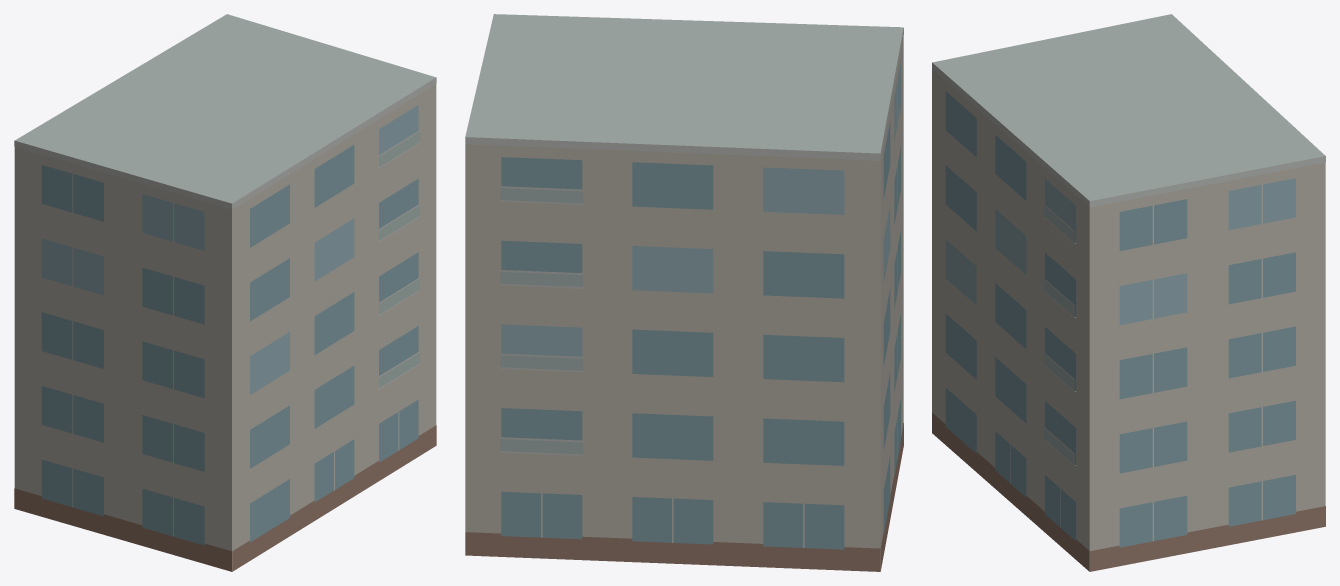
File: survey-upis-32707218.glb
The picture shows the model from 3 angles, left to right: view 1: azimuth 30°, elevation 25°; view 2: azimuth 150°, elevation 25°; view 3: azimuth 270°, elevation 25°; orthographic projection. The views are drawn at different scales.
Parts seen in each view (by area): view 1: survey-upis-32707218.tmp; view 2: survey-upis-32707218.tmp; view 3: survey-upis-32707218.tmp.
Boxes of the visible parts, x1=… form: survey-upis-32707218.tmp: x1=14, y1=14, x2=436, y2=571; survey-upis-32707218.tmp: x1=465, y1=14, x2=903, y2=571; survey-upis-32707218.tmp: x1=932, y1=14, x2=1325, y2=571.
Size of the model in its own units: 15.55 by 14.35 by 13.82.
